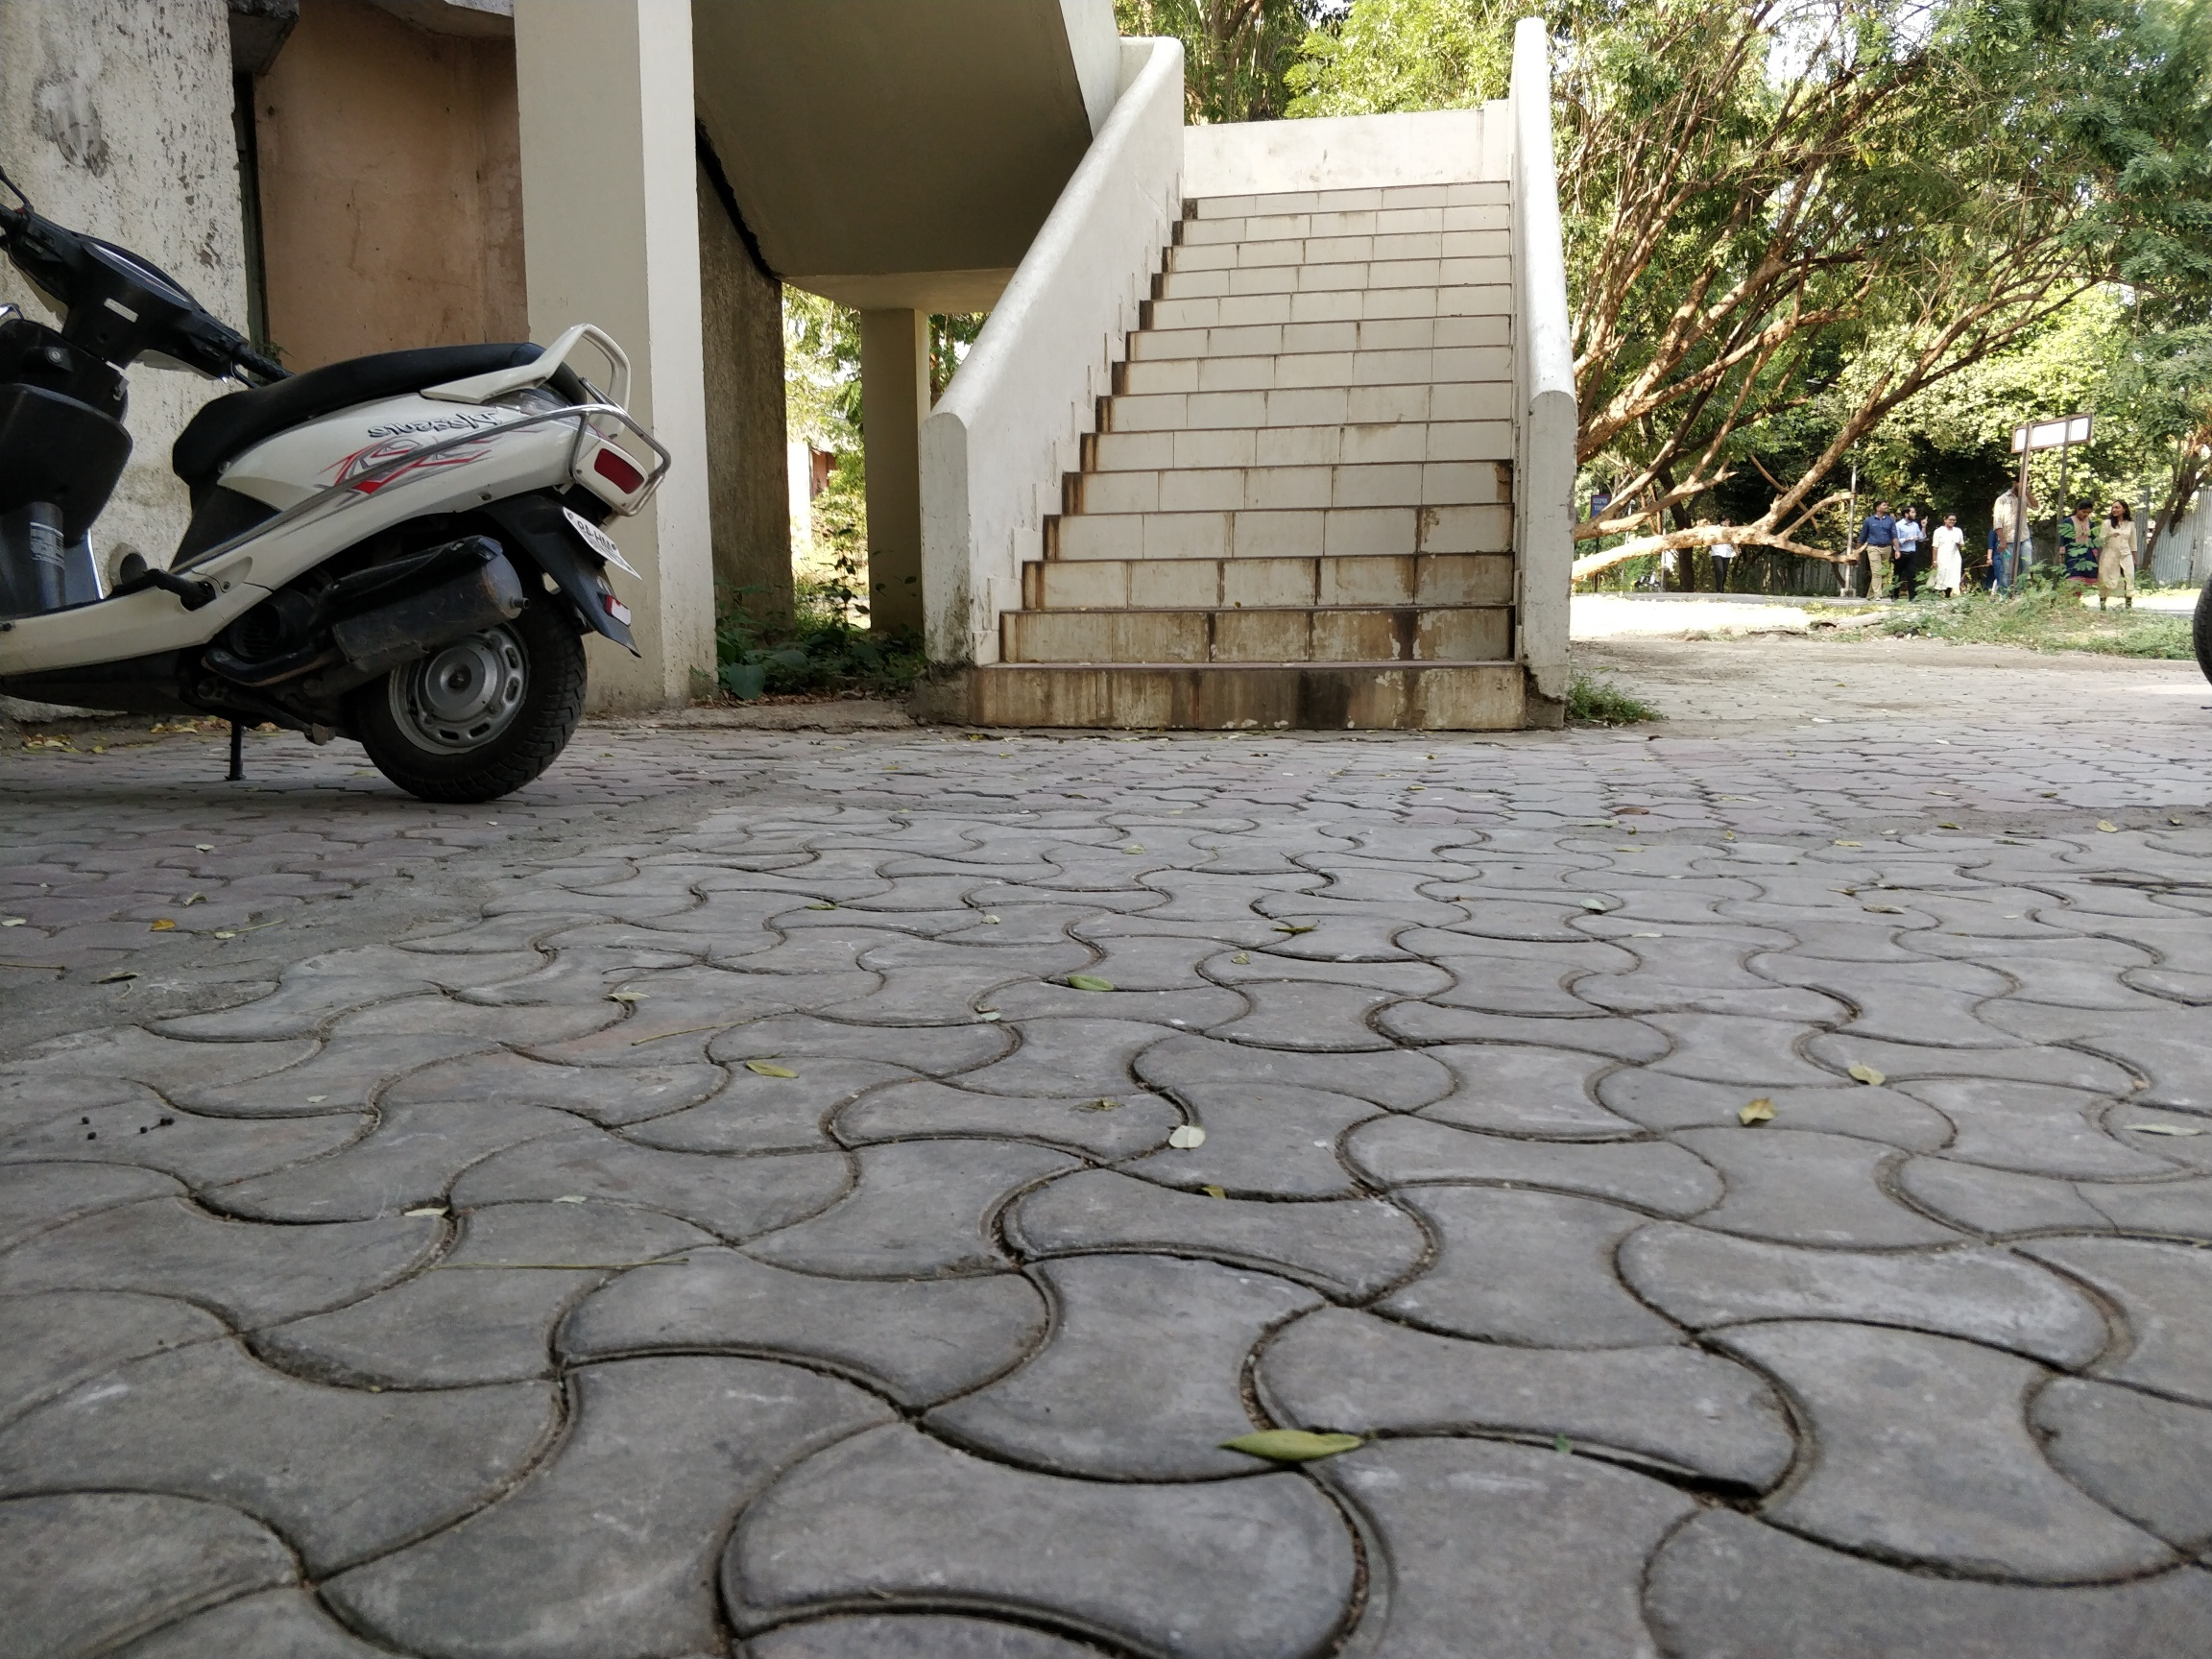stairs_up: (963, 179, 1521, 723)
